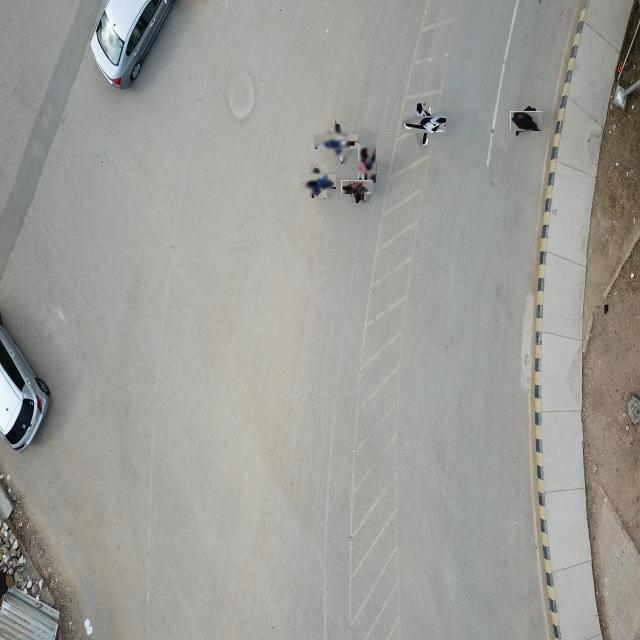Manusia: (408, 109, 440, 141), (320, 126, 352, 158), (358, 144, 377, 184), (513, 108, 540, 135), (305, 168, 333, 194), (345, 175, 370, 200)
